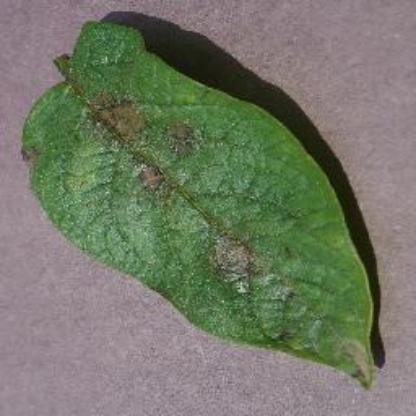Late-Blight: (20, 14, 386, 394)
